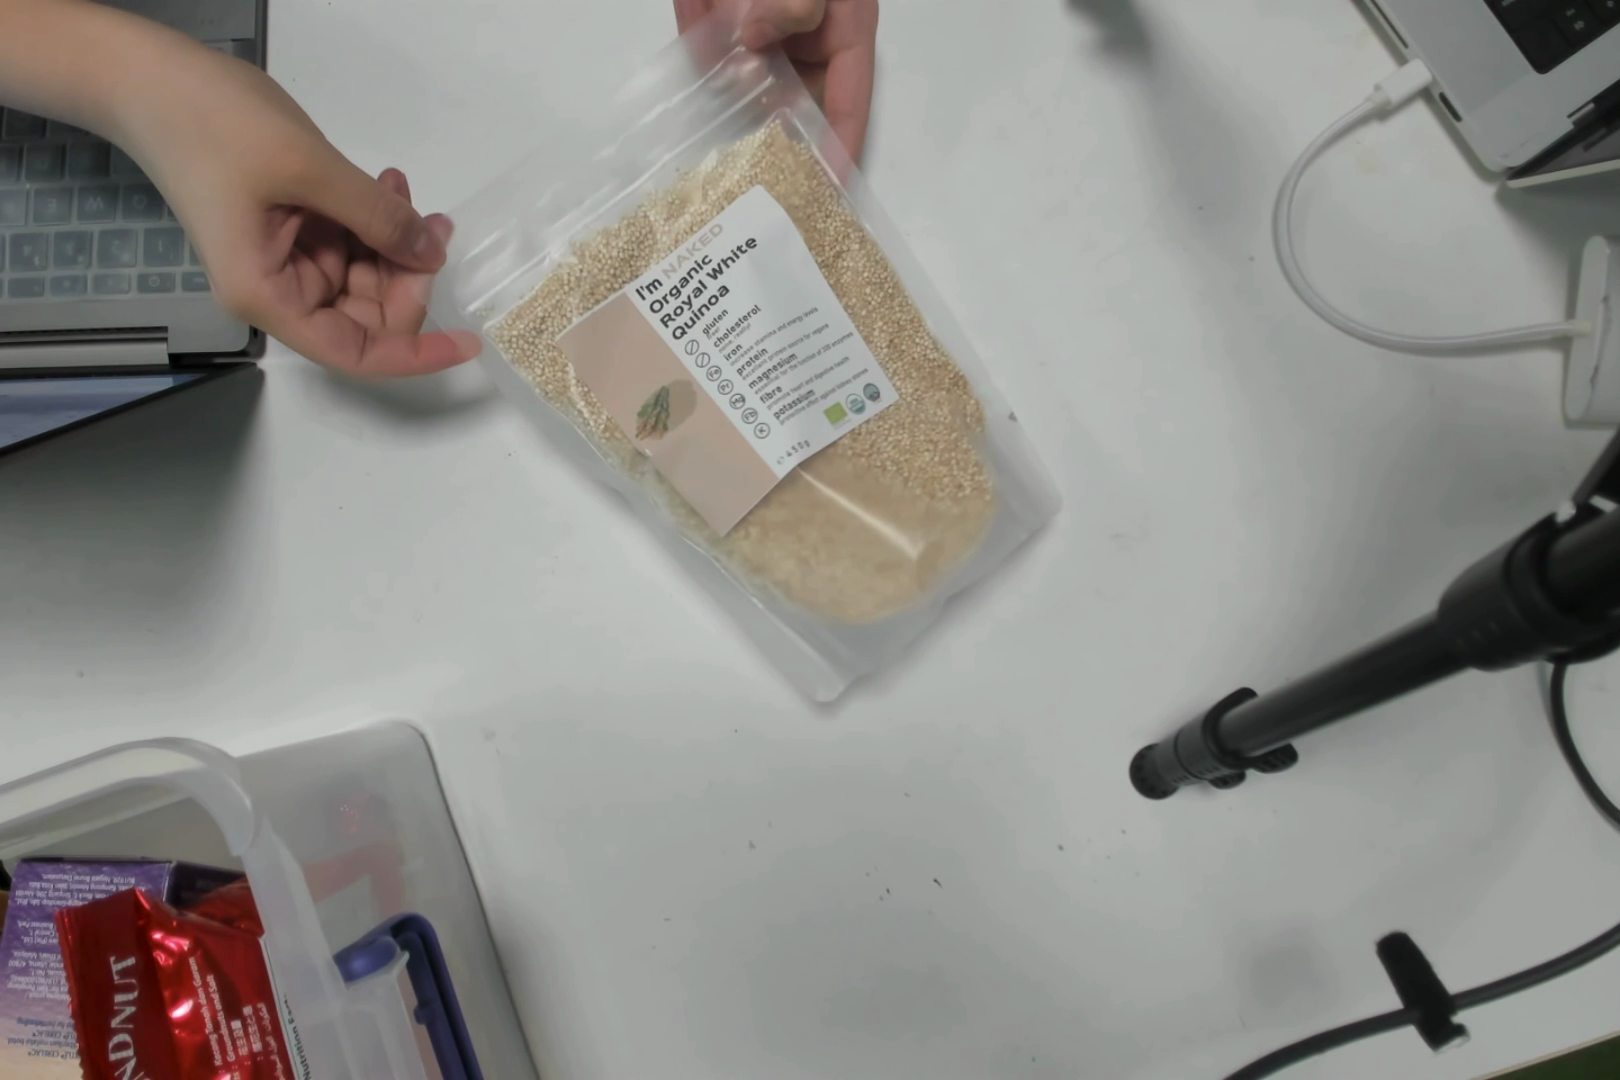Rice(brown-others)_400-499g_Halal_NonHealthy: (573, 165, 1029, 633)
